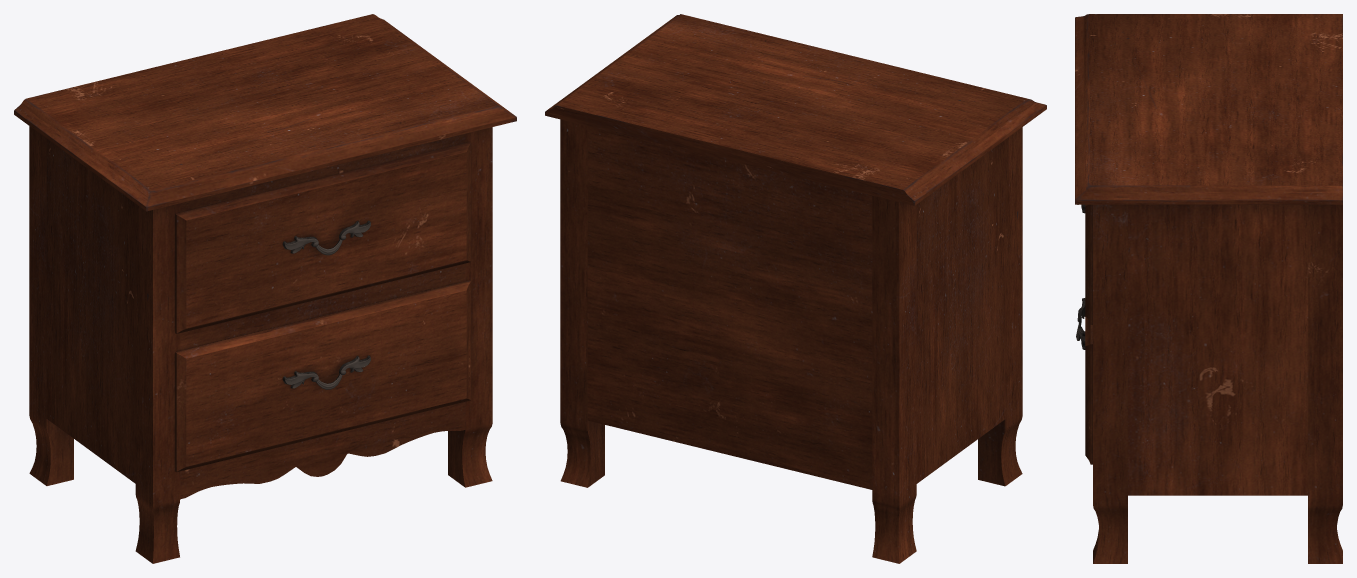
The picture shows the model from 3 angles, left to right: view 1: azimuth 30°, elevation 25°; view 2: azimuth 150°, elevation 25°; view 3: azimuth 270°, elevation 25°; orthographic projection.
Parts seen in each view (by area): view 1: Object_3, Object_2; view 2: Object_3; view 3: Object_3, Object_2.
Boxes of the visible parts, left/top/right/bottom form: Object_3: left=14, top=14, right=516, bottom=563; Object_2: left=282, top=220, right=370, bottom=389; Object_3: left=545, top=14, right=1046, bottom=563; Object_3: left=1075, top=14, right=1342, bottom=563; Object_2: left=1076, top=204, right=1085, bottom=349.
Size of the model in its own units: 0.7149 by 0.6929 by 0.4422.
Materials: 2 (2 with a texture image).
